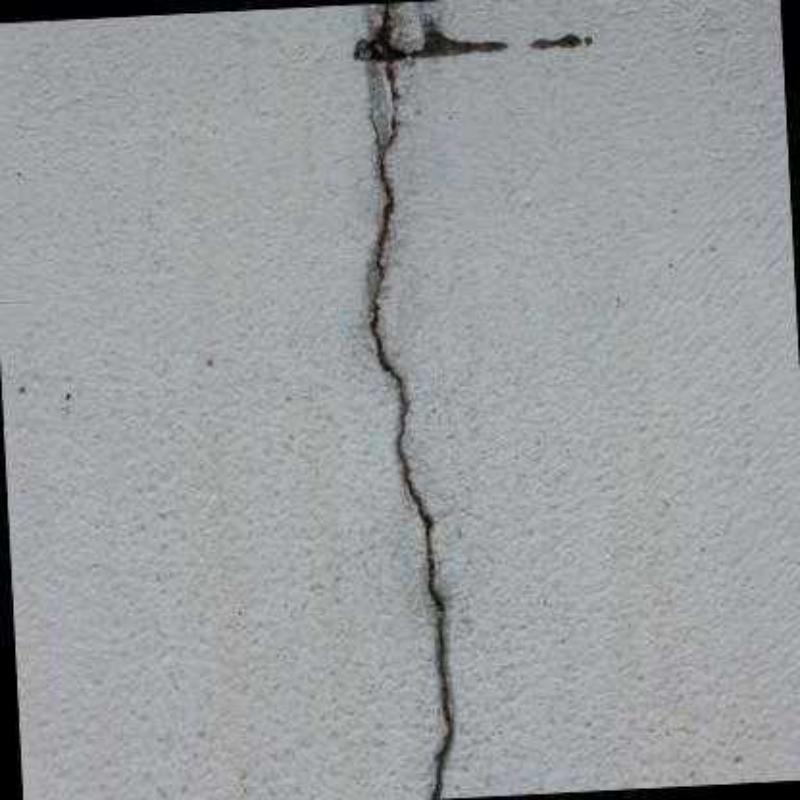pothole: (365, 64, 453, 798), (373, 4, 390, 40)
